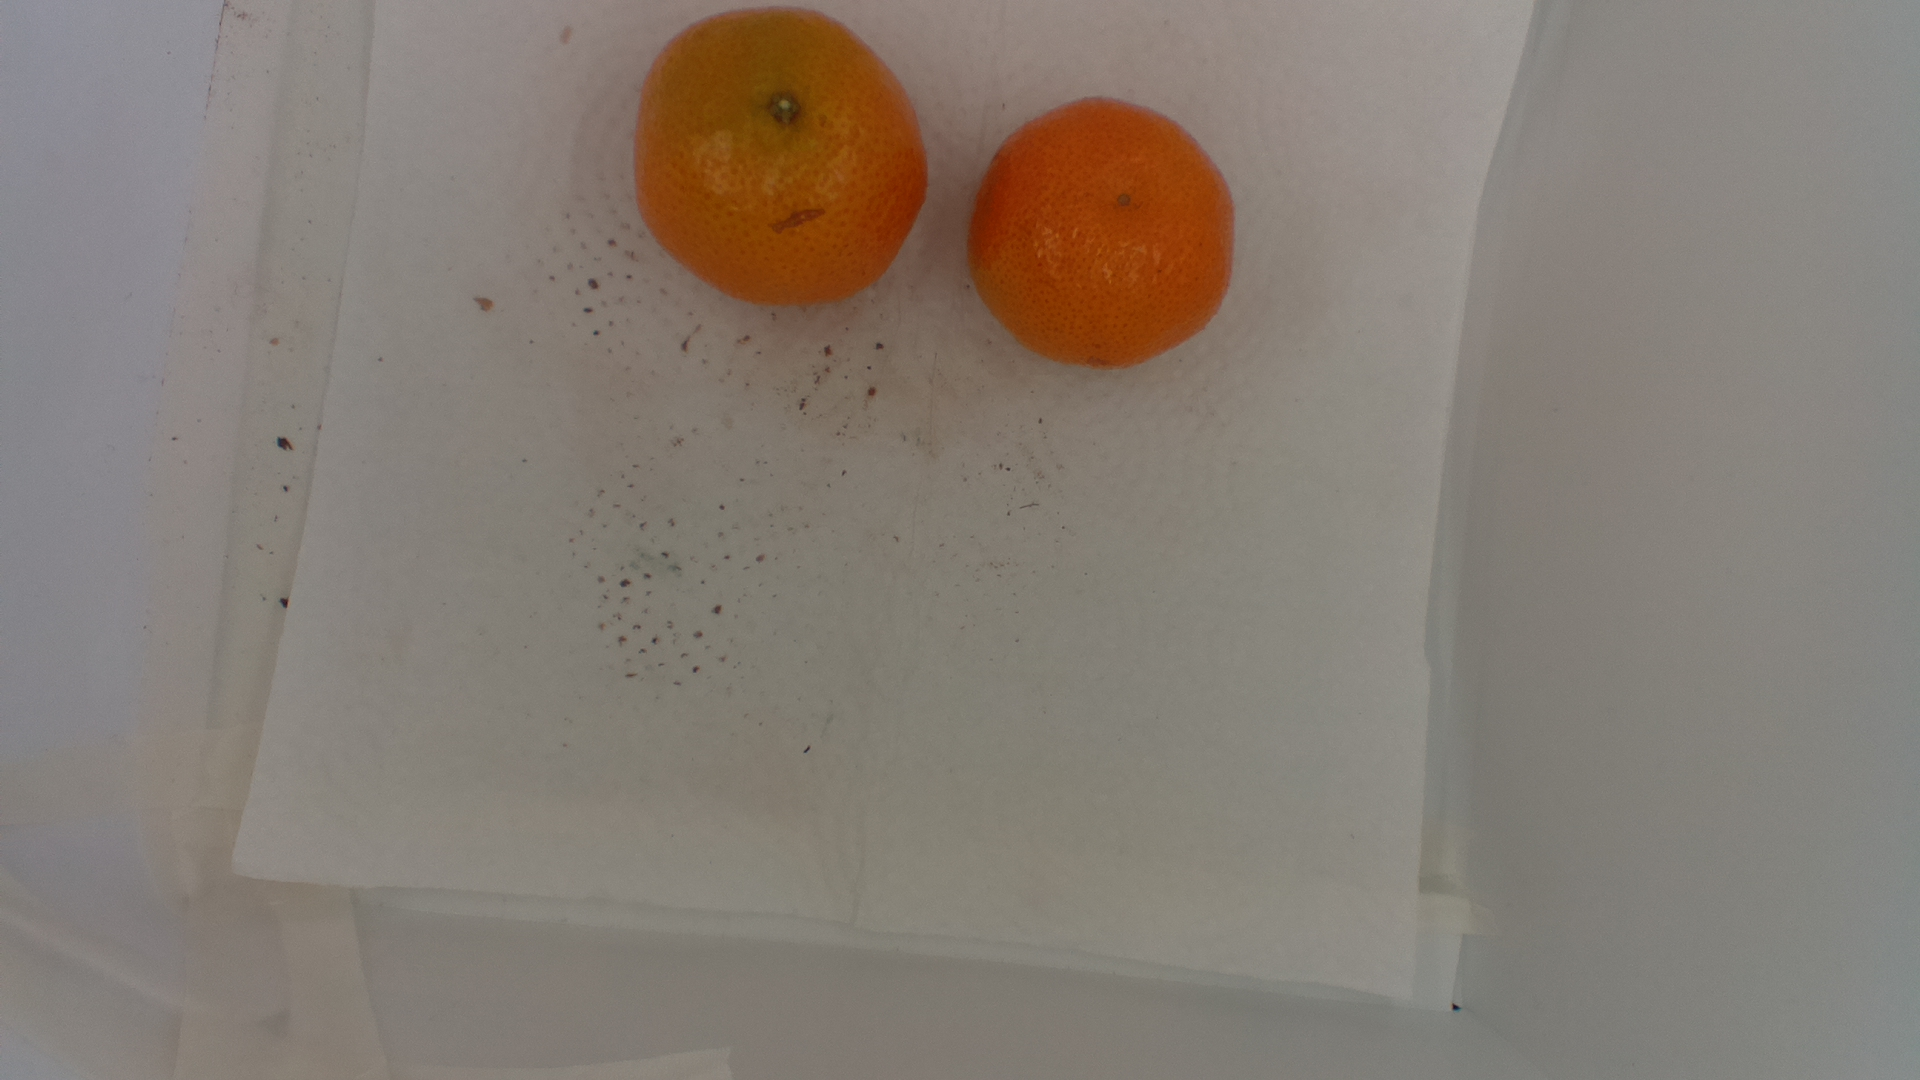fruit: (629, 4, 938, 309), (963, 91, 1251, 378)
